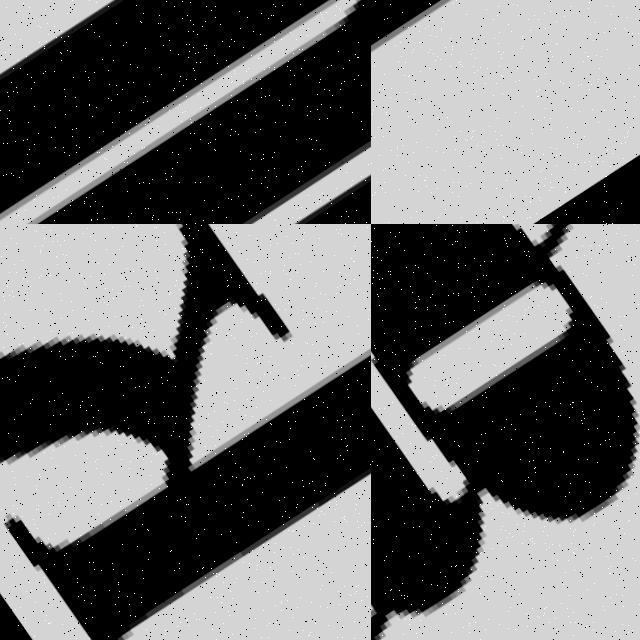G: (371, 224, 640, 640)
K: (0, 224, 371, 640)
M: (0, 0, 371, 224)
